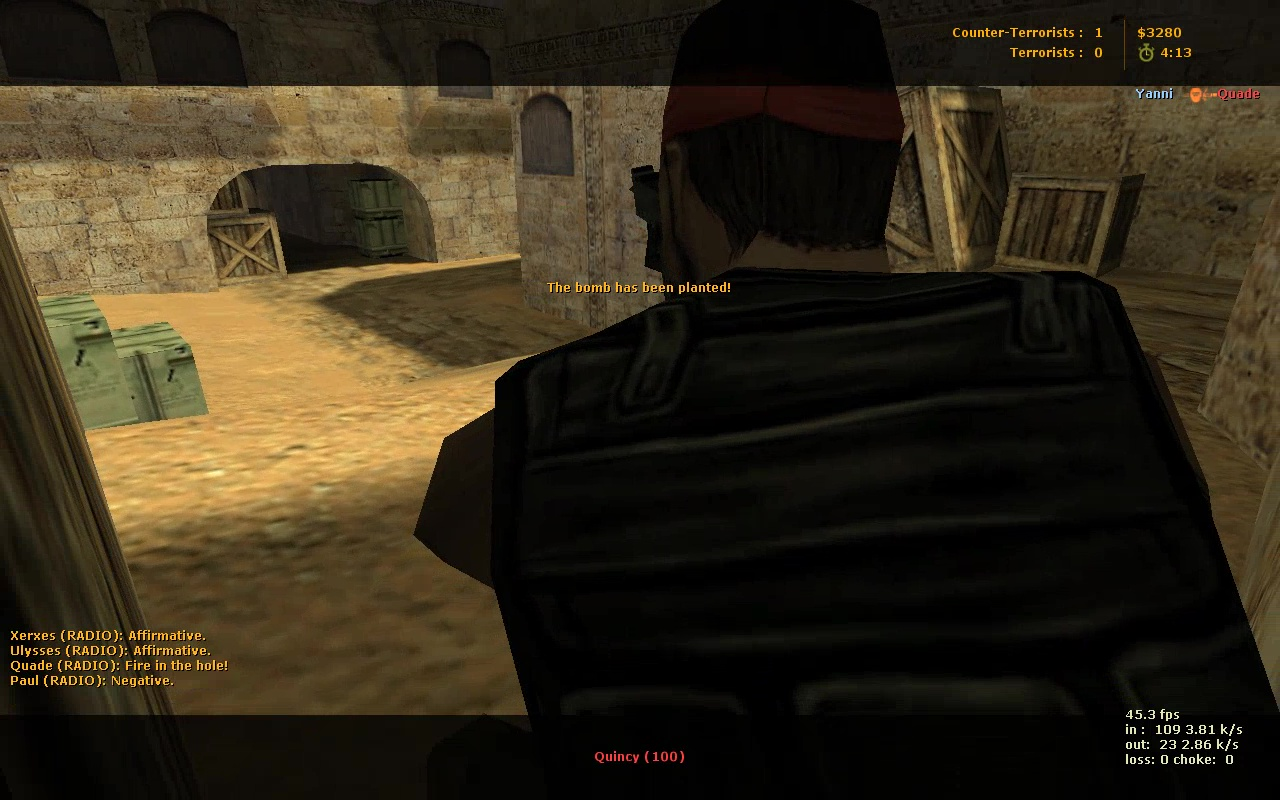terr1: (448, 29, 1276, 726)
